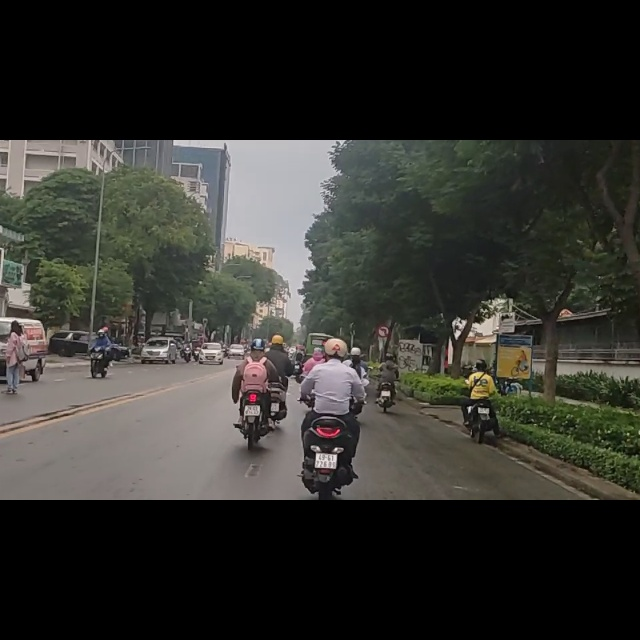Cấm rẽ trái: (378, 324, 390, 337)
